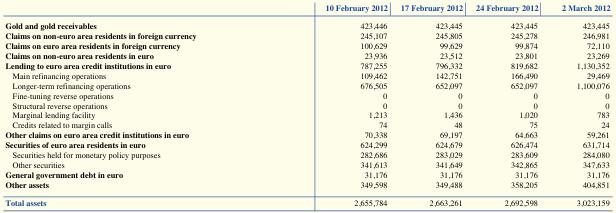table: (4, 4, 609, 207)
table column: (4, 4, 260, 207), (260, 4, 393, 207), (468, 4, 549, 207), (393, 4, 468, 207), (549, 4, 609, 207)
table column header: (4, 4, 609, 17)
table row: (4, 179, 609, 194), (4, 17, 609, 31), (4, 4, 609, 17), (4, 194, 609, 207), (4, 31, 609, 41), (4, 41, 609, 51), (4, 60, 609, 70), (4, 70, 609, 80), (4, 80, 609, 90), (4, 90, 609, 100), (4, 100, 609, 110), (4, 110, 609, 120), (4, 120, 609, 130), (4, 130, 609, 140), (4, 140, 609, 150), (4, 150, 609, 160), (4, 169, 609, 179), (4, 51, 609, 60), (4, 160, 609, 169)
